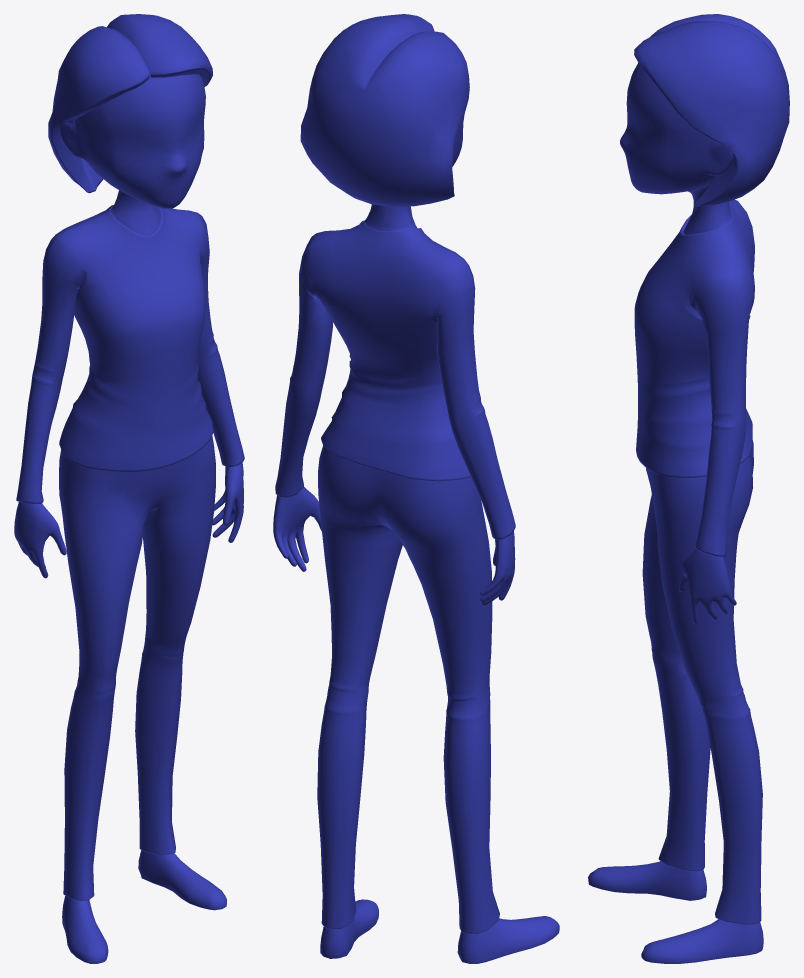
File: woman.fbx
3 views of the same model, side by side, from view 1: azimuth 30°, elevation 25°; view 2: azimuth 150°, elevation 25°; view 3: azimuth 270°, elevation 25° (orthographic). The views are drawn at different scales.
Parts seen in each view (by area): view 1: root; view 2: root; view 3: root.
Part boxes in pixels (bbox=[...]): root: bbox=[14, 14, 244, 963]; root: bbox=[273, 14, 559, 963]; root: bbox=[588, 14, 789, 963].
Size of the model in its own units: 0.072 by 0.2694 by 0.0542.
